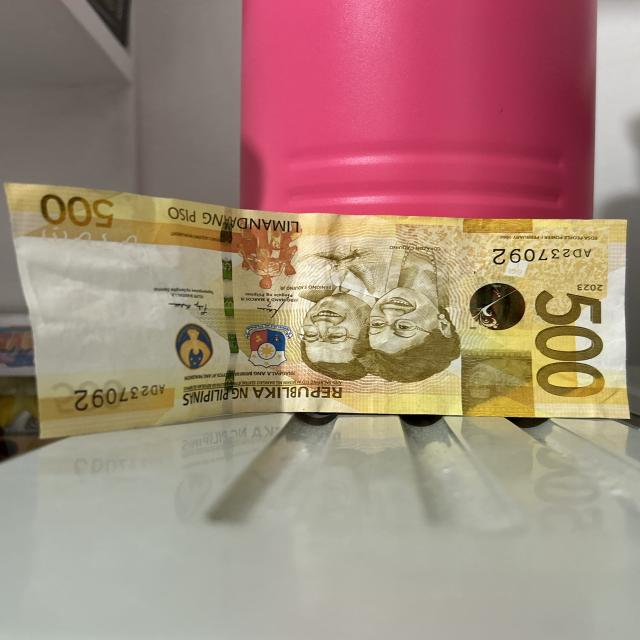concealed_value: (462, 355, 530, 408)
optically_variable_device: (466, 280, 527, 332)
security_thread: (210, 216, 248, 406)
see_through_mark: (38, 229, 145, 253)
value: (532, 286, 608, 402)
